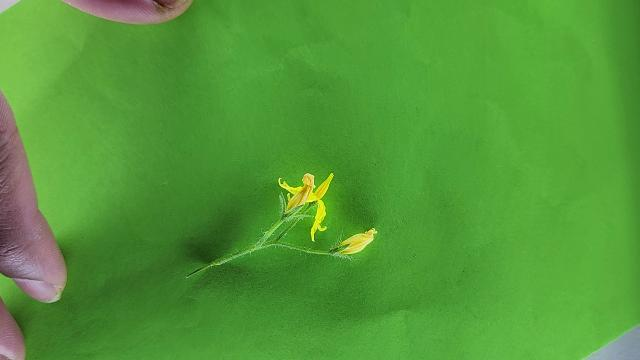Anthesis: (278, 171, 334, 242), (333, 227, 379, 256)
